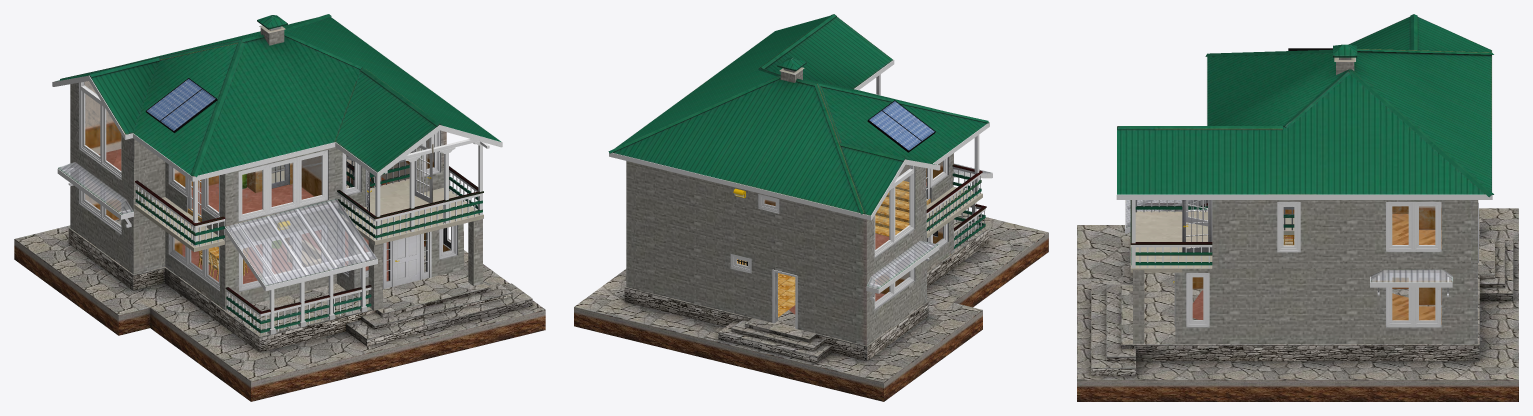
File: green-residence.glb
3 views of the same model, side by side, from view 1: azimuth 30°, elevation 25°; view 2: azimuth 150°, elevation 25°; view 3: azimuth 270°, elevation 25° (orthographic). The views are drawn at different scales.
Visible parts, largest first — view 1: Object_7, Object_8, Object_11, Object_14, Object_9, Object_10, Object_15; view 2: Object_7, Object_11, Object_8, Object_14, Object_15, Object_9; view 3: Object_7, Object_11, Object_8, Object_14.
Boxes of the visible parts, bbox=[...] form: Object_7: bbox=[55, 14, 500, 333]; Object_8: bbox=[14, 219, 545, 401]; Object_11: bbox=[70, 25, 483, 310]; Object_14: bbox=[52, 16, 502, 334]; Object_9: bbox=[145, 78, 217, 132]; Object_10: bbox=[200, 240, 320, 279]; Object_15: bbox=[187, 208, 248, 280]; Object_7: bbox=[608, 14, 991, 288]; Object_11: bbox=[626, 67, 982, 345]; Object_8: bbox=[574, 213, 1048, 401]; Object_14: bbox=[609, 16, 992, 328]; Object_15: bbox=[737, 180, 930, 317]; Object_9: bbox=[867, 100, 935, 152]; Object_7: bbox=[1117, 14, 1493, 282]; Object_11: bbox=[1130, 57, 1477, 343]; Object_8: bbox=[1077, 208, 1518, 401]; Object_14: bbox=[1116, 16, 1492, 326].
Bounding box in the file's own units: 1337 × 1016 × 1457.
13 materials, 13 textured.
